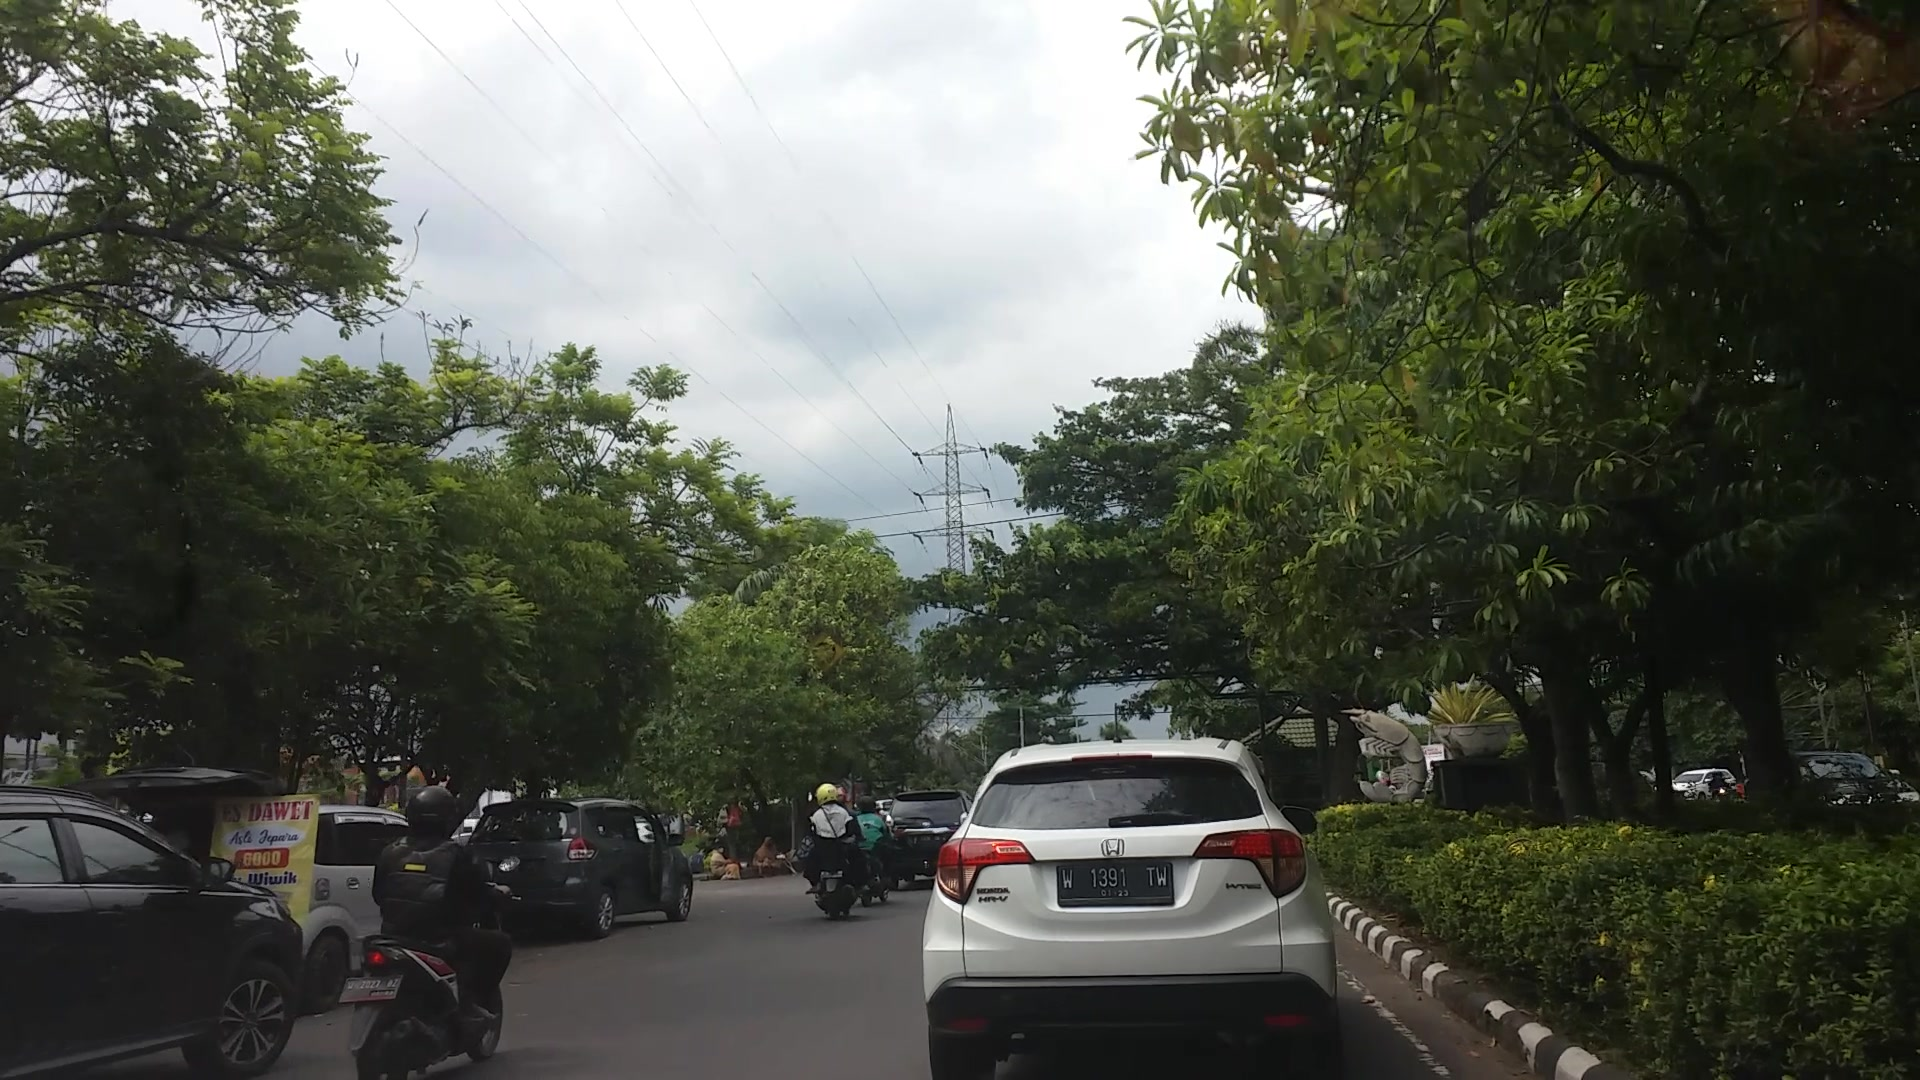plate_positive: (1058, 861, 1174, 906)
